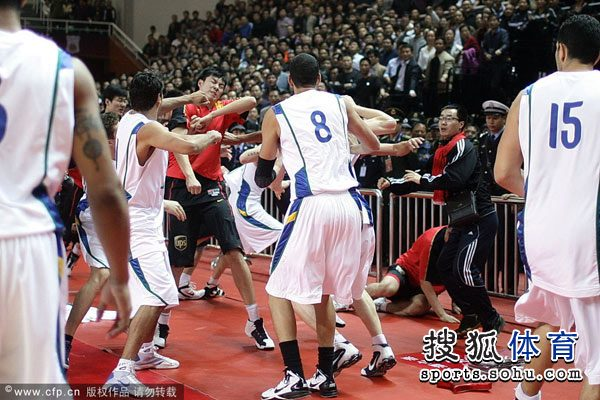10+: (1, 1, 598, 397)
down: (329, 205, 480, 338)
